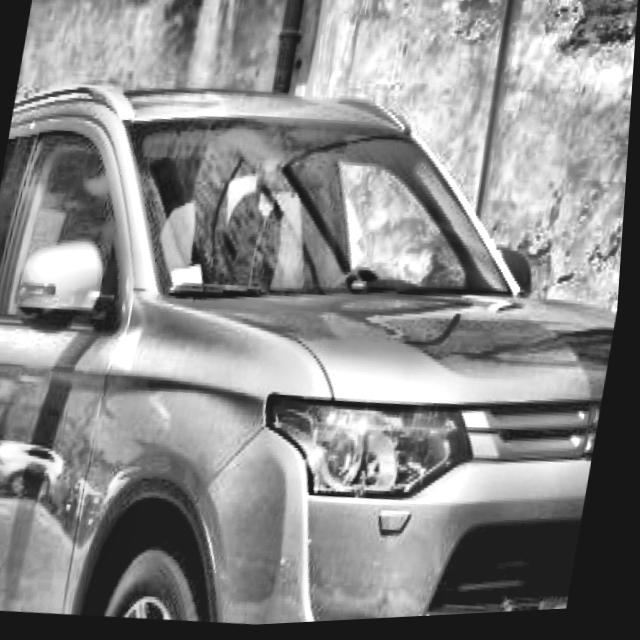light_vehicle: (0, 47, 636, 640)
